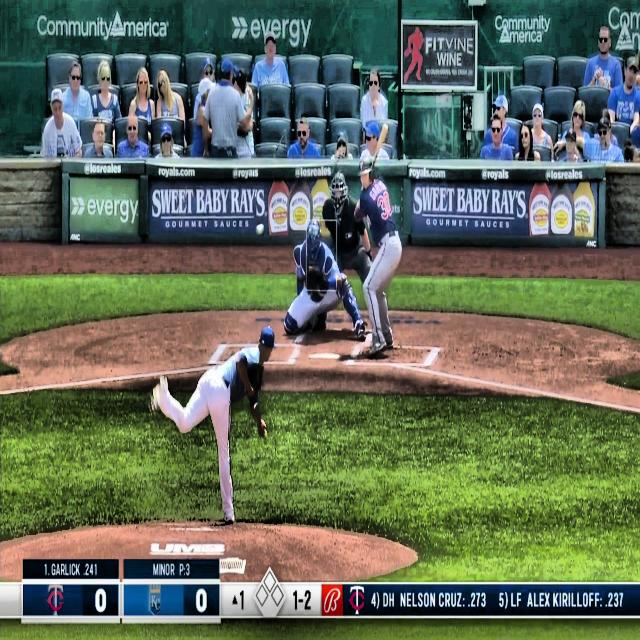baseball: (255, 223, 265, 236)
